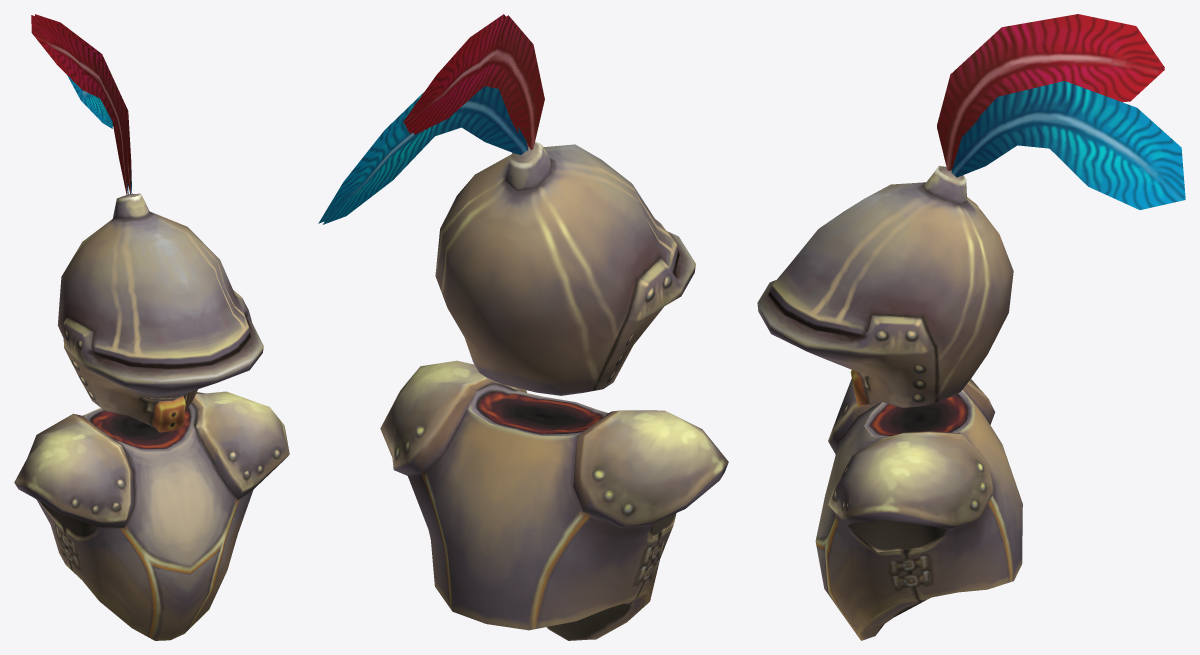
File: bust_of_knight_001.FBX
3 renders of one model, left to right at view 1: azimuth 30°, elevation 25°; view 2: azimuth 150°, elevation 25°; view 3: azimuth 270°, elevation 25°, orthographic. The views are drawn at different scales.
Visible parts, largest first — view 1: bust_of_knight_001; view 2: bust_of_knight_001; view 3: bust_of_knight_001.
Part boxes in pixels (left/top/right/bottom): bust_of_knight_001: left=14, top=14, right=289, bottom=640; bust_of_knight_001: left=318, top=14, right=728, bottom=640; bust_of_knight_001: left=757, top=14, right=1185, bottom=640.
Bounding box in the file's own units: 9.56 × 19.69 × 12.46.
1 material, 1 textured.
